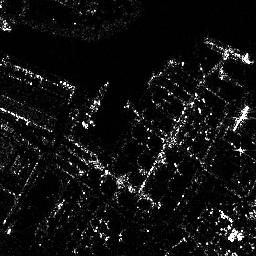ship: (202, 34, 254, 65), (80, 81, 110, 129)
